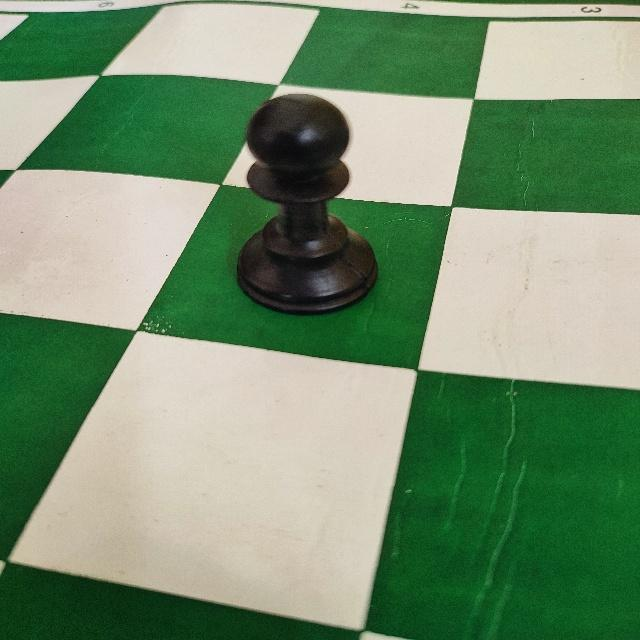Pawn: (230, 85, 381, 318)
